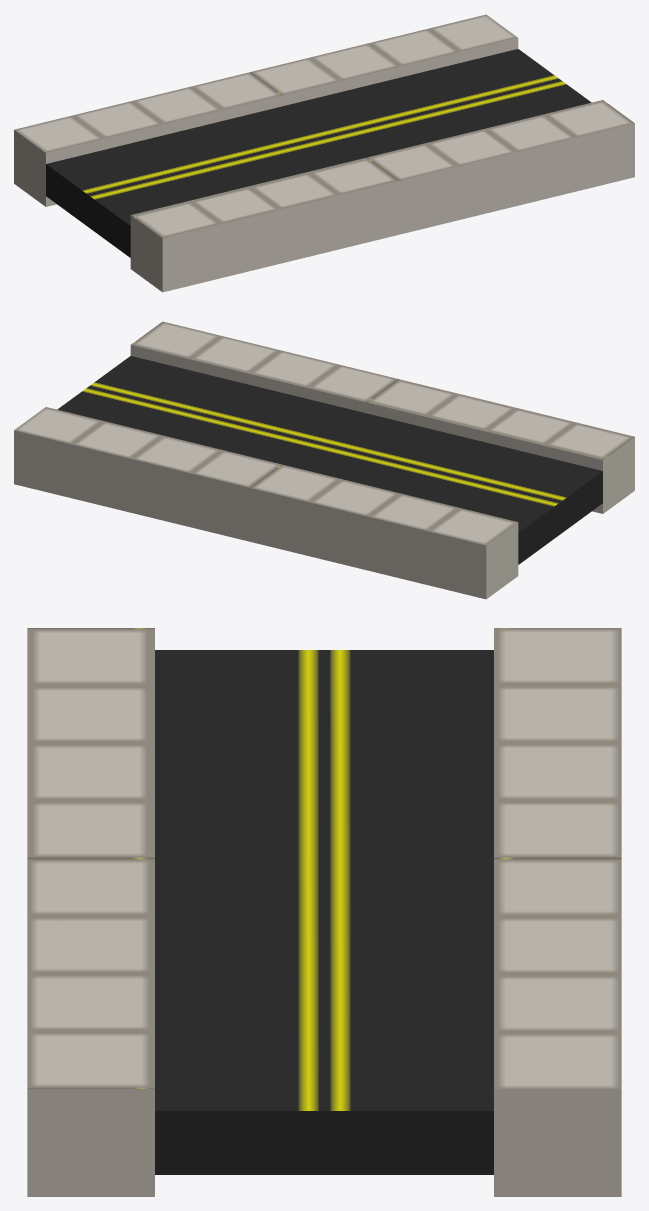
The model's file is Street3.fbx.
3 renders of one model, top to bottom at view 1: azimuth 30°, elevation 25°; view 2: azimuth 150°, elevation 25°; view 3: azimuth 270°, elevation 25°, orthographic. The views are drawn at different scales.
Visible parts, largest first — view 1: Cube; view 2: Cube; view 3: Cube.
Part boxes in pixels (<box>): Cube: <box>14,14,634,292</box>; Cube: <box>14,321,634,599</box>; Cube: <box>27,628,621,1196</box>.
Size of the model in its own units: 1248 by 136 by 680.
